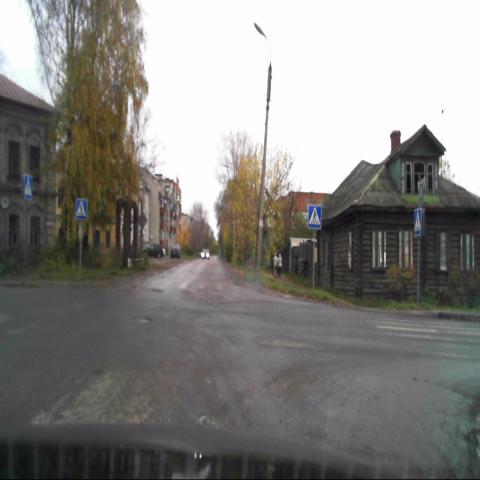5_19_1: (307, 203, 321, 229), (75, 198, 89, 220), (23, 174, 32, 200), (414, 208, 422, 234)
